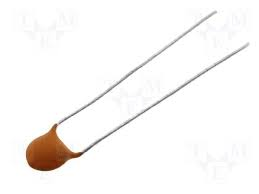ceramic capacitor: (3, 95, 100, 189)
